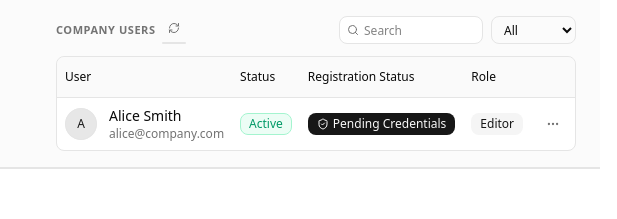
Test: CompanyUsersRow — status action menu › offers only Resend invitation for a user still completing registration
The width and height of the screenshot is (617, 219).
Expected: the text "Alice Smith" is shown, [109, 106, 182, 124]
Click the button named "Actions for Alice Smith": (553, 124) [539, 110, 567, 138]
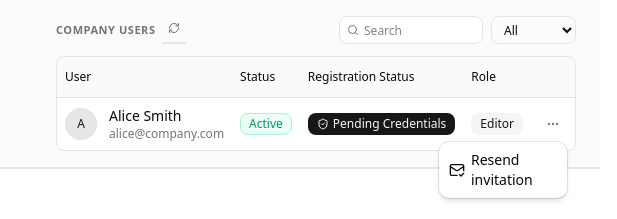
Expected: the menu item "Resend invitation" is shown, [449, 150, 533, 189]
